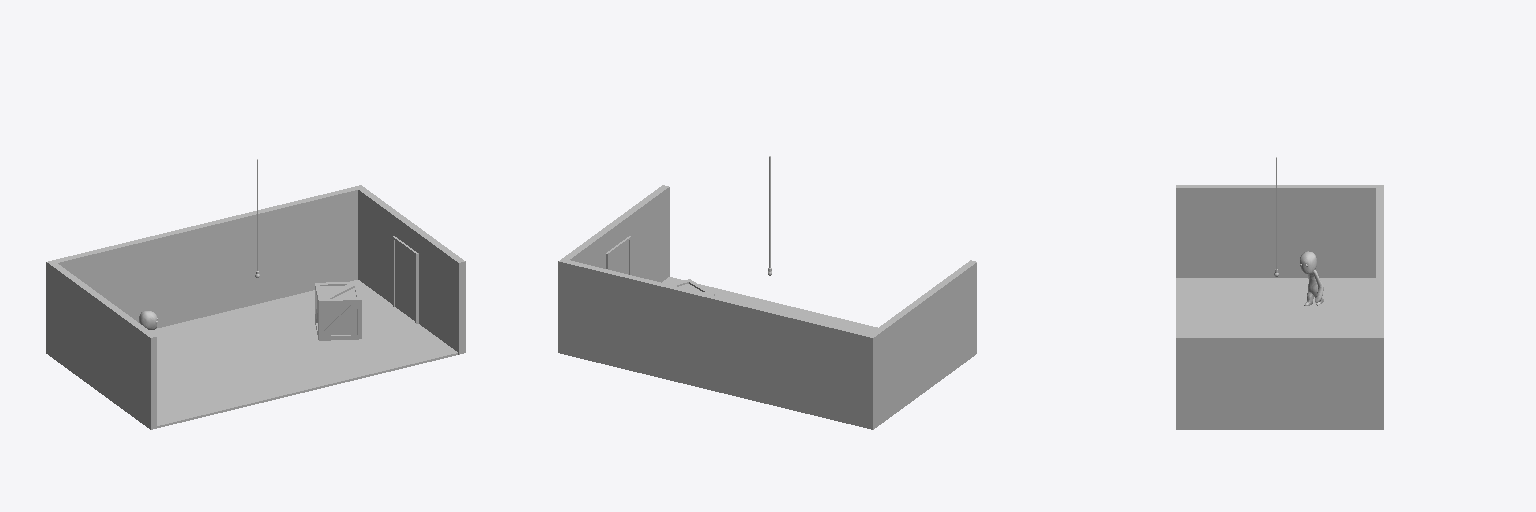
Rendered from sceneb.obj.
The picture shows the model from 3 angles: view 1: azimuth 30°, elevation 25°; view 2: azimuth 150°, elevation 25°; view 3: azimuth 270°, elevation 25°; orthographic projection.
Visible parts, largest first — view 1: Room, Floor, Wodden_Box, Portal; view 2: Room, Floor; view 3: Room, Floor, Ragdoll_Mesh.
Boxes of the visible parts, x1=… form: Room: x1=46, y1=185, x2=465, y2=429; Floor: x1=149, y1=280, x2=457, y2=427; Wodden_Box: x1=315, y1=281, x2=361, y2=340; Portal: x1=395, y1=241, x2=414, y2=320; Room: x1=558, y1=185, x2=976, y2=429; Floor: x1=662, y1=277, x2=877, y2=333; Room: x1=1176, y1=185, x2=1383, y2=429; Floor: x1=1176, y1=278, x2=1375, y2=334; Ragdoll_Mesh: x1=1300, y1=251, x2=1323, y2=305.
Bounding box in the file's own units: 158 × 93.84 × 90.36.